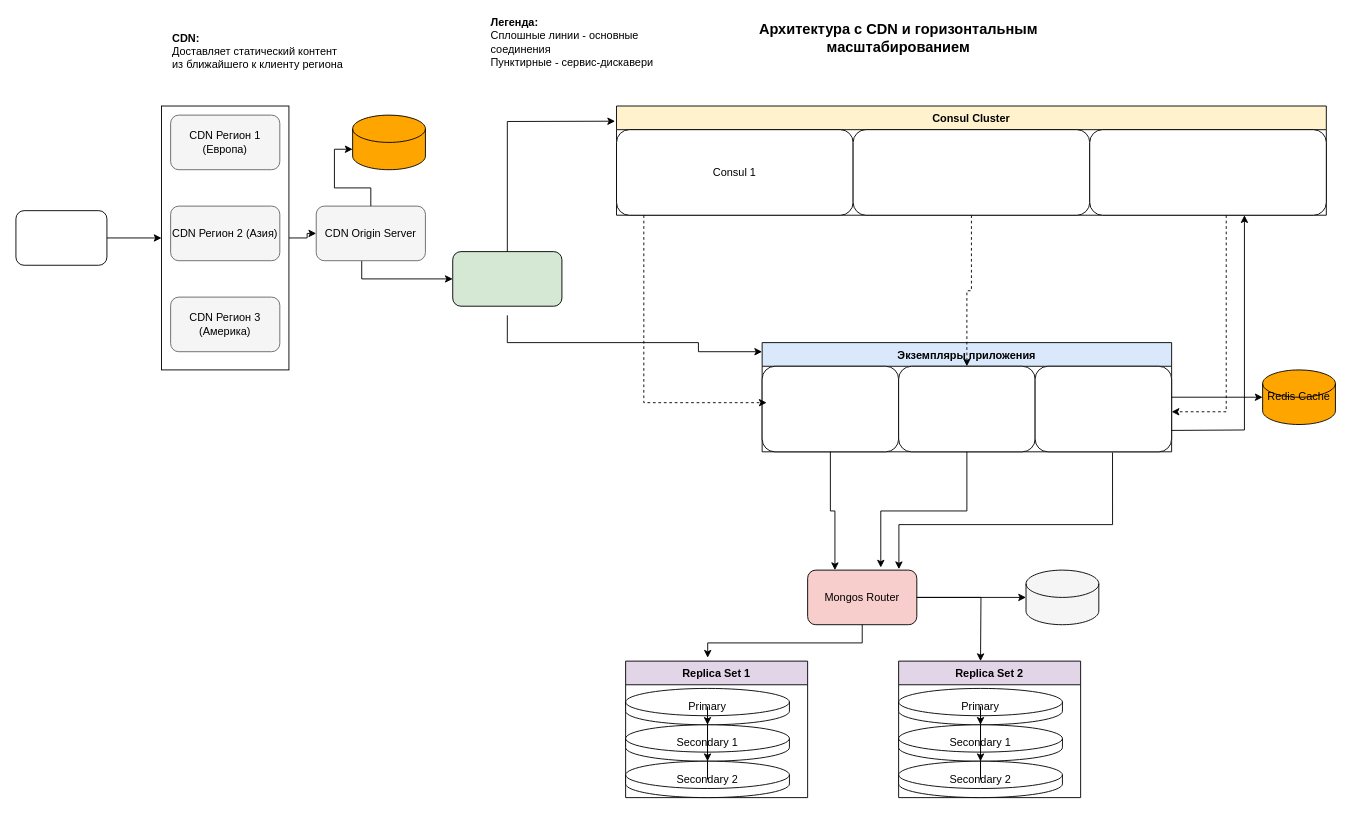
Image size: 1351x814. Some labels were removed from this diagram. The centre of each missing label's shape, as x and y in pixels:
"API Gateway" goes at point (507, 278).
"Config Server" goes at point (1062, 597).
"Consul 2" goes at point (971, 172).
"Consul 3" goes at point (1207, 172).
"pymongo-api 1" goes at point (830, 408).
"pymongo-api 2" goes at point (966, 408).
"pymongo-api 3" goes at point (1103, 408).
"Stattic Storage" goes at point (388, 142).
"Клиент" goes at point (61, 237).
